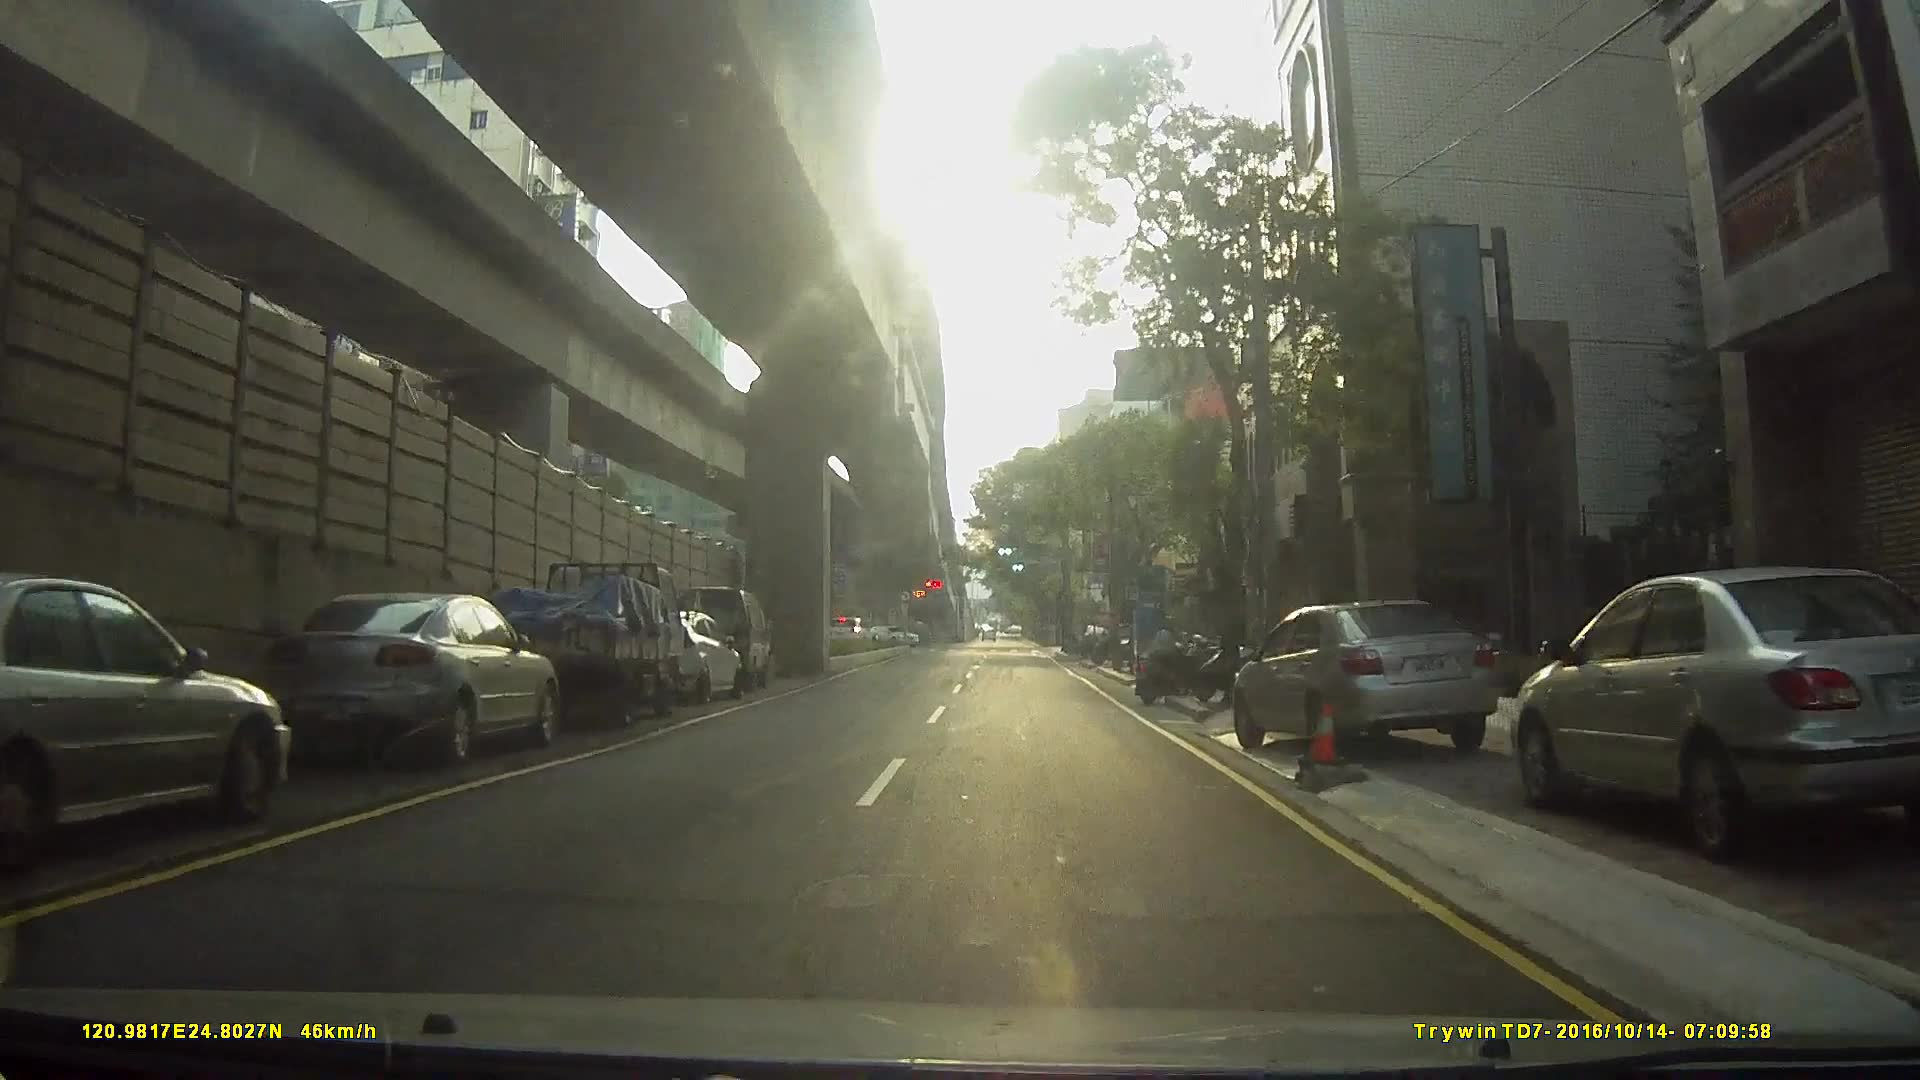rider: (1136, 620, 1216, 709)
vehicle: (1494, 556, 1913, 888), (1, 556, 305, 856), (247, 588, 568, 772), (1222, 597, 1517, 762), (472, 561, 720, 729), (617, 607, 743, 706), (821, 614, 875, 650)
